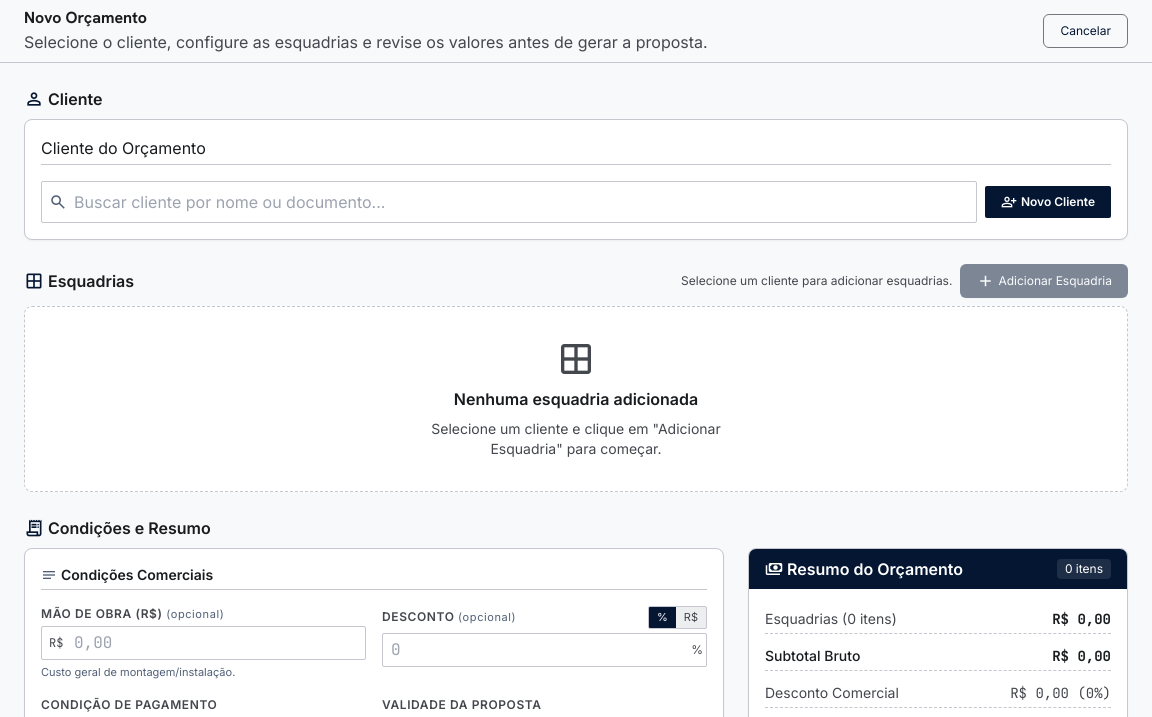
Test: BudgetEditor — [US-09.33] Alinhamento com Seleção de Cliente e Notas › deve selecionar um cliente no CustomerSelector e refletir os dados no card do orçamento
This screenshot has width=1152, height=717.
Click the field with placeholder "Buscar cliente por nome ou documento...": click(509, 202) [41, 181, 977, 223]
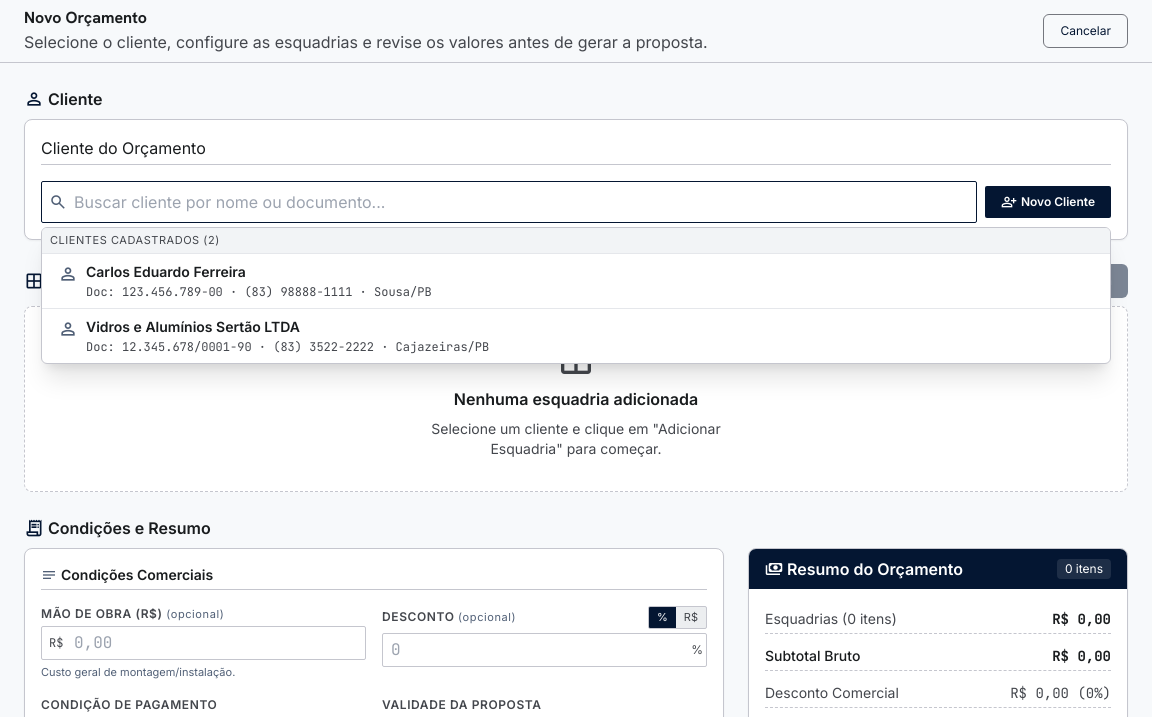
expect the text "Carlos Eduardo Ferreira" is shown: met
Click the text "Carlos Eduardo Ferreira": click(166, 271) [86, 262, 246, 280]
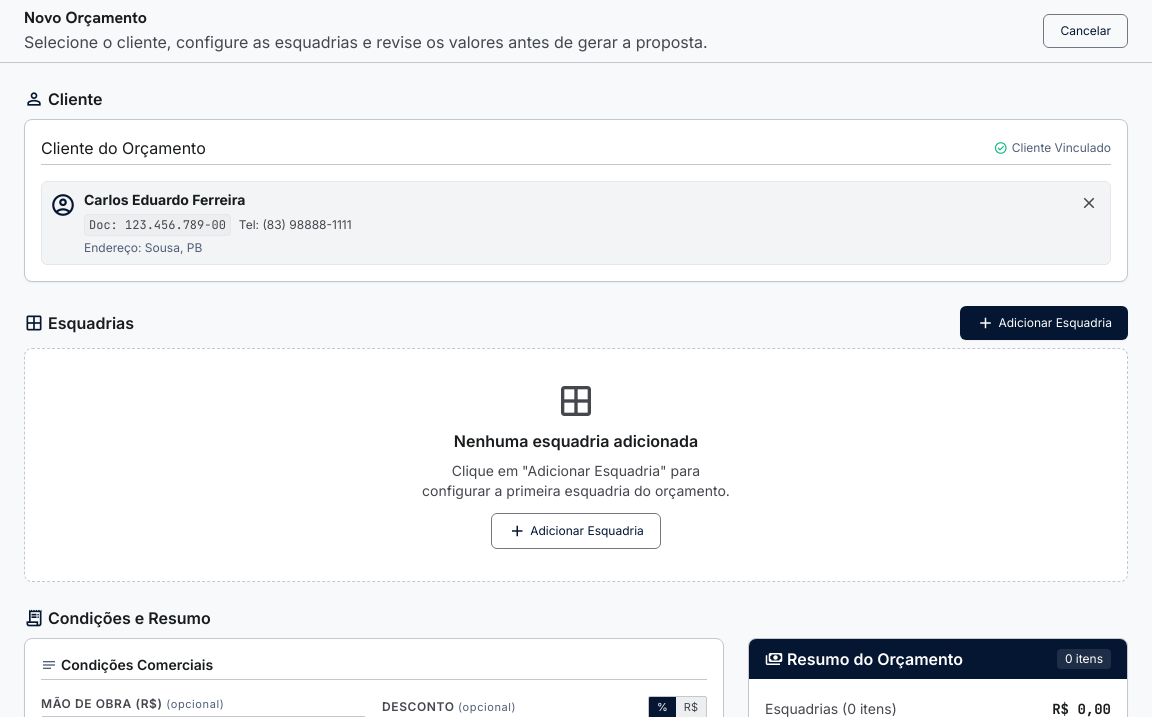
expect the text "Carlos Eduardo Ferreira" is shown: met, box [84, 191, 245, 208]
expect the text "Doc: 123.456.789-00" is shown: met, box [84, 214, 231, 236]
expect the text "Tel: (83) 98888-1111" is shown: met, box [239, 217, 352, 233]
